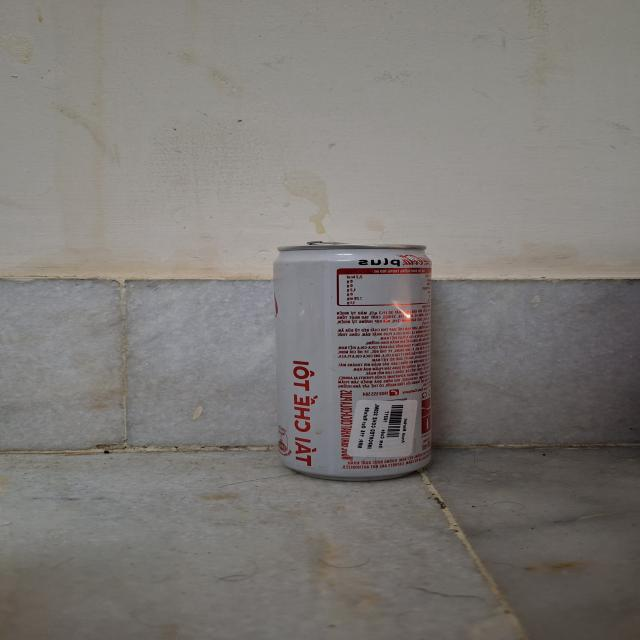Coca Cola Plus: (261, 226, 437, 492)
